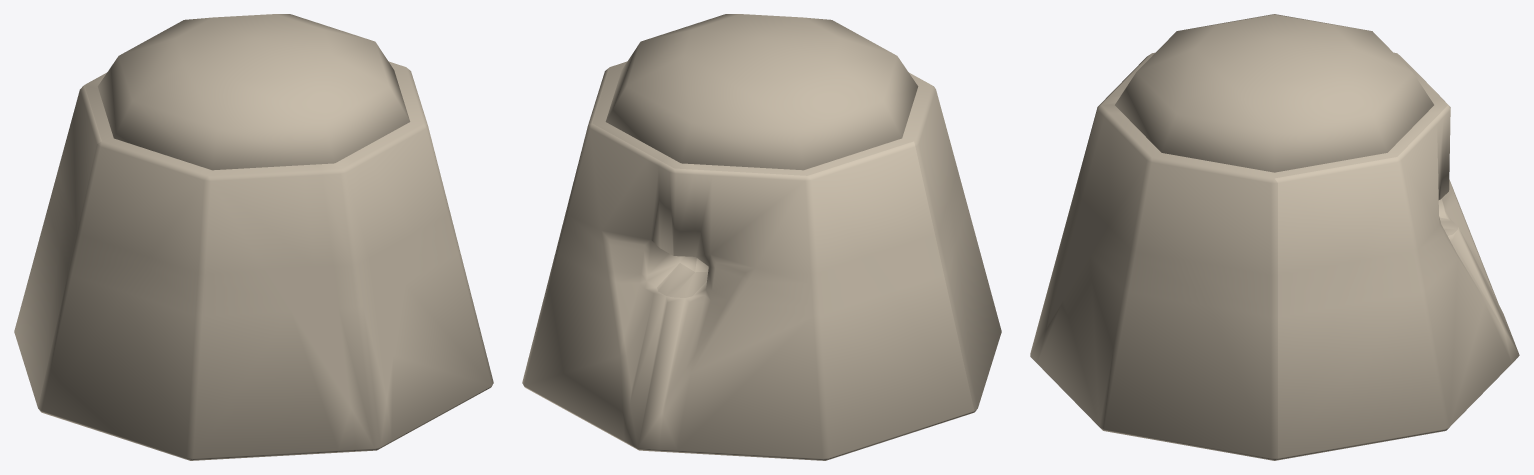
The model's file is bunker_main_tidemark.glb.
The picture shows the model from 3 angles, left to right: view 1: azimuth 30°, elevation 25°; view 2: azimuth 150°, elevation 25°; view 3: azimuth 270°, elevation 25°; orthographic projection.
Visible parts, largest first — view 1: bunker_main_tidemark; view 2: bunker_main_tidemark; view 3: bunker_main_tidemark.
Boxes of the visible parts, x1,y1,x2,y2 form: bunker_main_tidemark: (14,14,493,460); bunker_main_tidemark: (522,14,1001,460); bunker_main_tidemark: (1030,14,1519,460).
Bounding box in the file's own units: 2.97 × 2.14 × 2.98.
